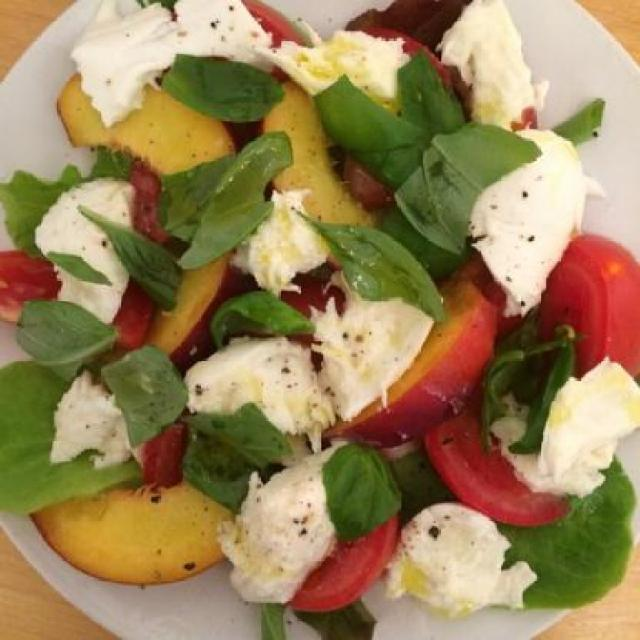Tomato: (418, 408, 576, 536), (526, 228, 640, 384), (288, 516, 407, 613), (363, 29, 454, 86), (240, 0, 302, 82), (276, 274, 342, 351), (0, 248, 63, 326), (117, 279, 165, 355), (128, 156, 170, 242), (137, 423, 180, 488)
